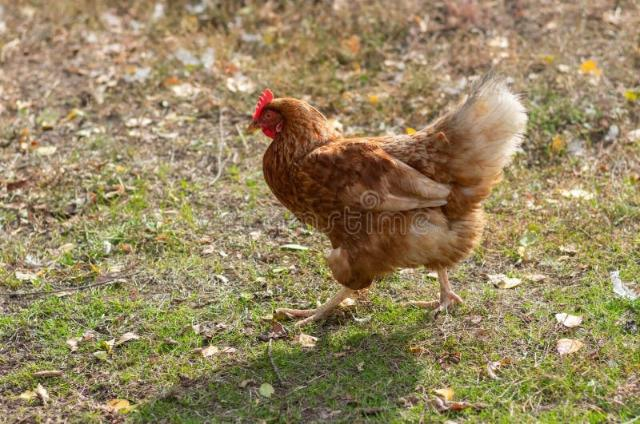Chicken: (246, 72, 529, 325)
